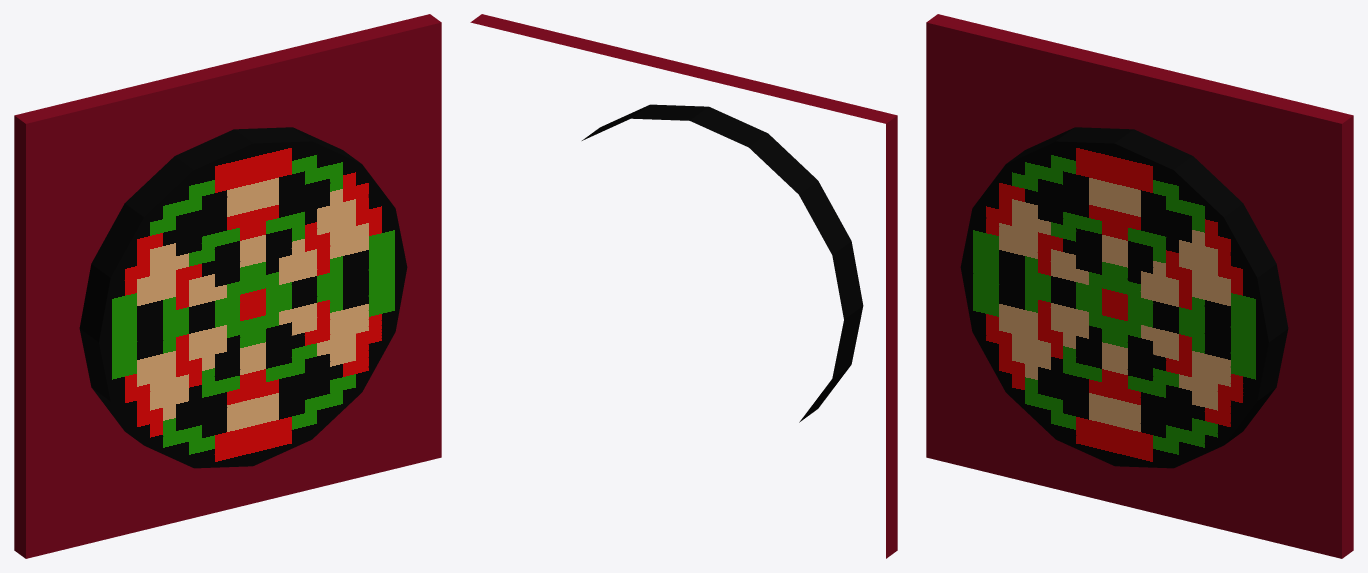
Rendered from dart.glb.
3 views of the same model, side by side, from view 1: azimuth 30°, elevation 25°; view 2: azimuth 150°, elevation 25°; view 3: azimuth 330°, elevation 25° (orthographic).
Parts seen in each view (by area): view 1: Back; view 2: Back; view 3: Back.
Boxes of the visible parts, left/top/right/bottom form: Back: left=14, top=14, right=441, bottom=558; Back: left=470, top=14, right=897, bottom=558; Back: left=926, top=14, right=1353, bottom=558.
Size of the model in its own units: 0.62 by 0.62 by 0.08.
3 materials, 1 textured.
